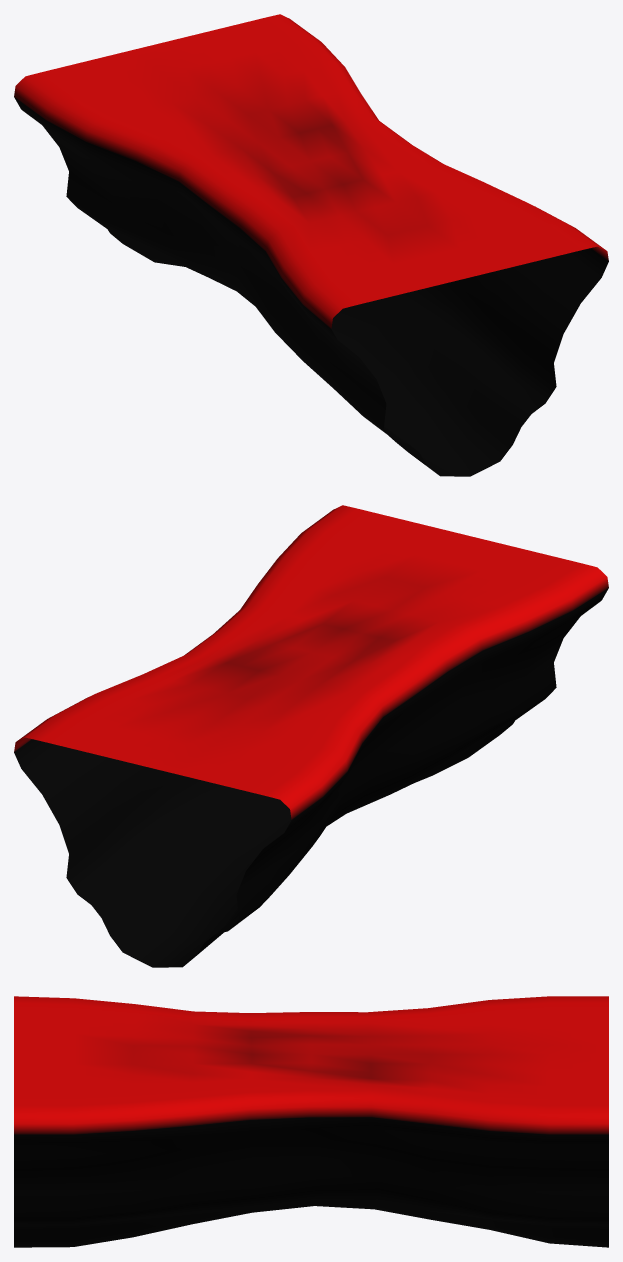
The model's file is CrossingCliff01A 2M Foreground.fbx.
3 renders of one model, top to bottom at view 1: azimuth 30°, elevation 25°; view 2: azimuth 150°, elevation 25°; view 3: azimuth 270°, elevation 25°, orthographic. The views are drawn at different scales.
Parts seen in each view (by area): view 1: CrossingCliff01A 2M Foreground; view 2: CrossingCliff01A 2M Foreground; view 3: CrossingCliff01A 2M Foreground.
Boxes of the visible parts, x1,y1,x2,y2 form: CrossingCliff01A 2M Foreground: (14,14,608,476); CrossingCliff01A 2M Foreground: (14,505,608,967); CrossingCliff01A 2M Foreground: (14,996,608,1247).
Bounding box in the file's own units: 1.01 × 0.6931 × 2.
